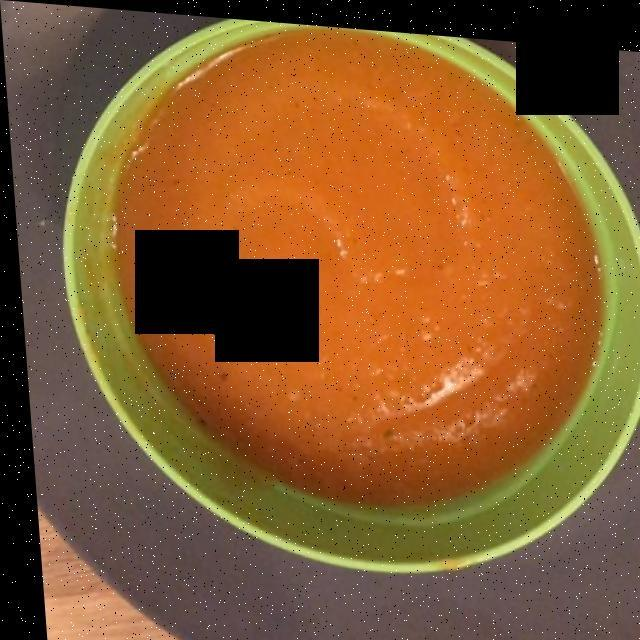soup: (120, 34, 581, 497)
